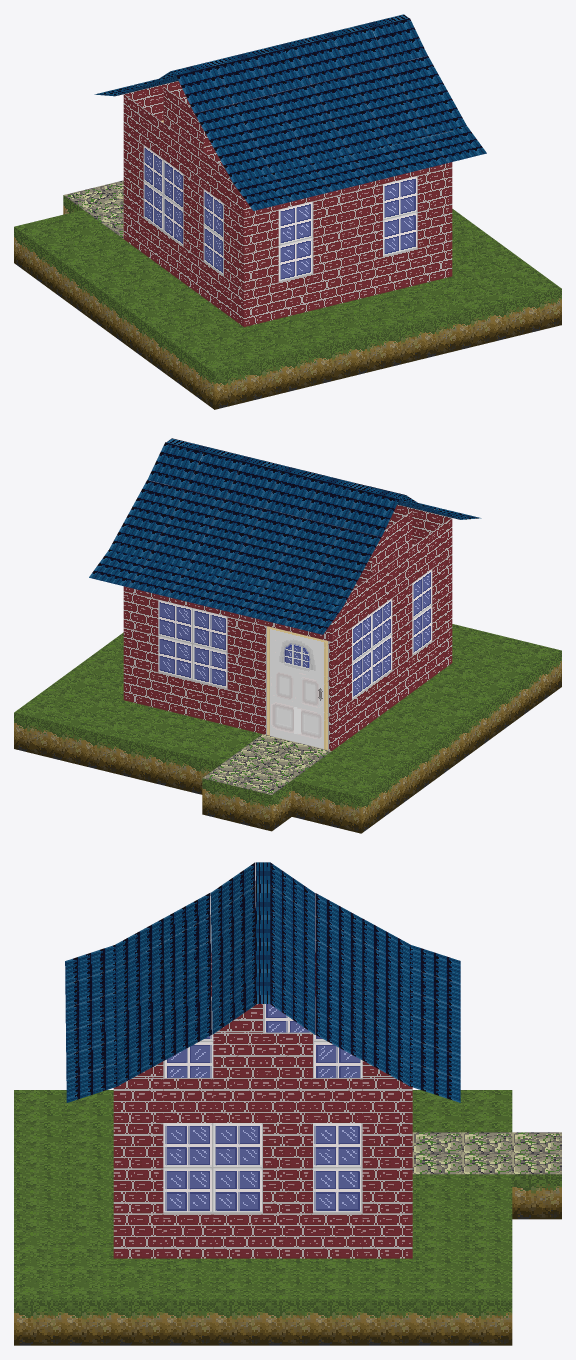
Rendered from sprytilebrickhouse.gltf.
The picture shows the model from 3 angles, top to bottom: view 1: azimuth 30°, elevation 25°; view 2: azimuth 150°, elevation 25°; view 3: azimuth 270°, elevation 25°; orthographic projection. The views are drawn at different scales.
Visible parts, largest first — view 1: Cube; view 2: Cube; view 3: Cube.
Boxes of the visible parts, x1=… form: Cube: x1=14, y1=14, x2=561, y2=409; Cube: x1=14, y1=438, x2=561, y2=833; Cube: x1=14, y1=862, x2=561, y2=1345.
Bounding box in the file's own units: 10 × 6.84 × 11.
1 material, 1 textured.
